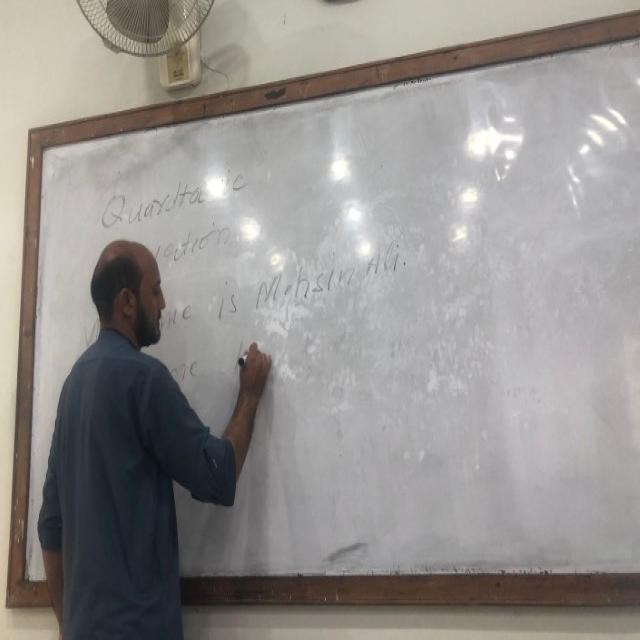Instructor: (60, 218, 178, 640)
White-board: (11, 22, 640, 606)
